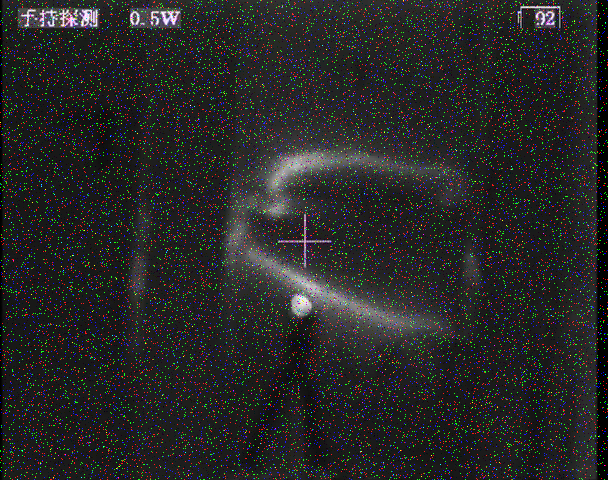my: (289, 295, 314, 319)
